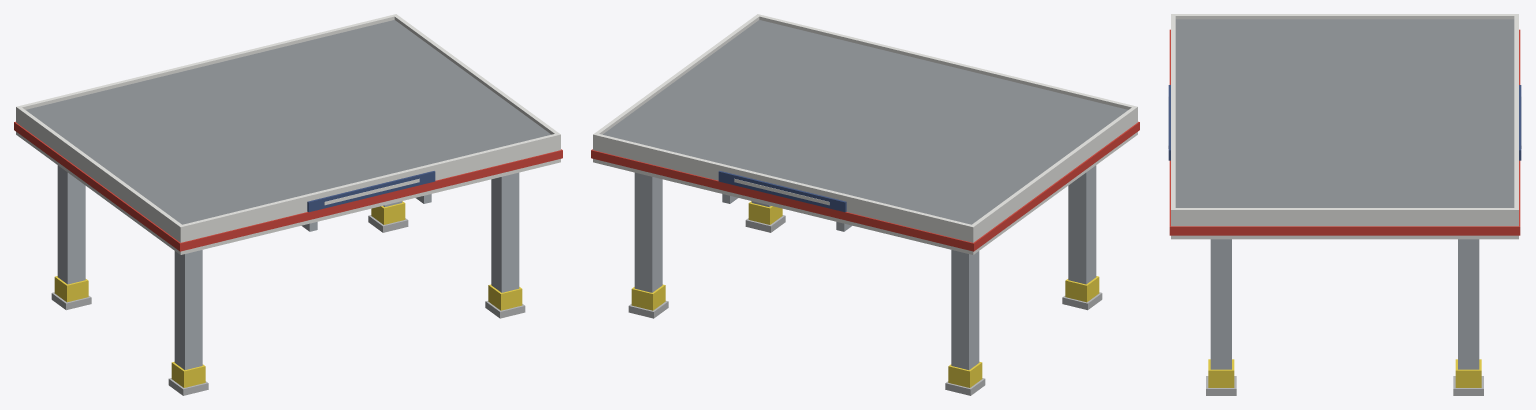
The model's file is forecourt-canopy.glb.
The picture shows the model from 3 angles, left to right: view 1: azimuth 30°, elevation 25°; view 2: azimuth 150°, elevation 25°; view 3: azimuth 270°, elevation 25°; orthographic projection. The views are drawn at different scales.
Parts seen in each view (by area): view 1: Prop_ForecourtCanopy_mesh; view 2: Prop_ForecourtCanopy_mesh; view 3: Prop_ForecourtCanopy_mesh.
Boxes of the visible parts, box(x1,y1,x2,y2) form: Prop_ForecourtCanopy_mesh: box(14, 14, 562, 395); Prop_ForecourtCanopy_mesh: box(591, 14, 1139, 395); Prop_ForecourtCanopy_mesh: box(1168, 14, 1521, 395).
Bounding box in the file's own units: 12.08 × 5.59 × 9.14.
